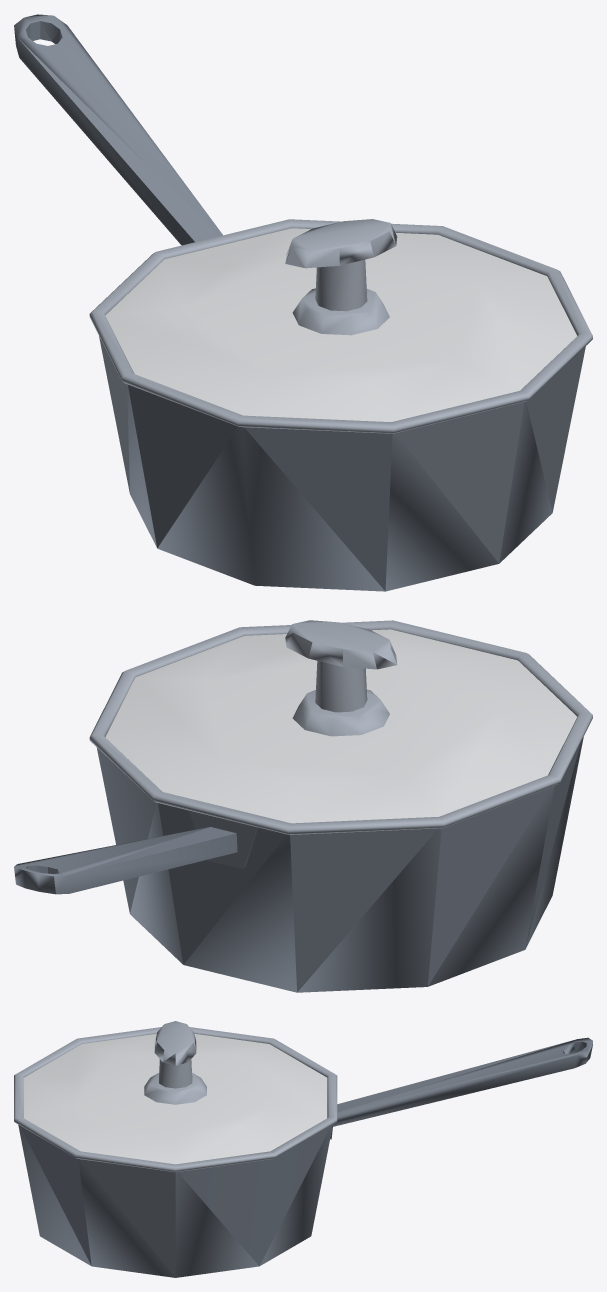
Rendered from sauce-pan.glb.
3 renders of one model, top to bottom at view 1: azimuth 30°, elevation 25°; view 2: azimuth 150°, elevation 25°; view 3: azimuth 270°, elevation 25°, orthographic. The views are drawn at different scales.
Parts seen in each view (by area): view 1: sauce-pan; view 2: sauce-pan; view 3: sauce-pan.
Boxes of the visible parts, x1=… form: sauce-pan: x1=14, y1=14, x2=592, y2=591; sauce-pan: x1=14, y1=620, x2=592, y2=992; sauce-pan: x1=14, y1=1021, x2=592, y2=1277.
Size of the model in its own units: 0.2054 by 0.1204 by 0.35.
